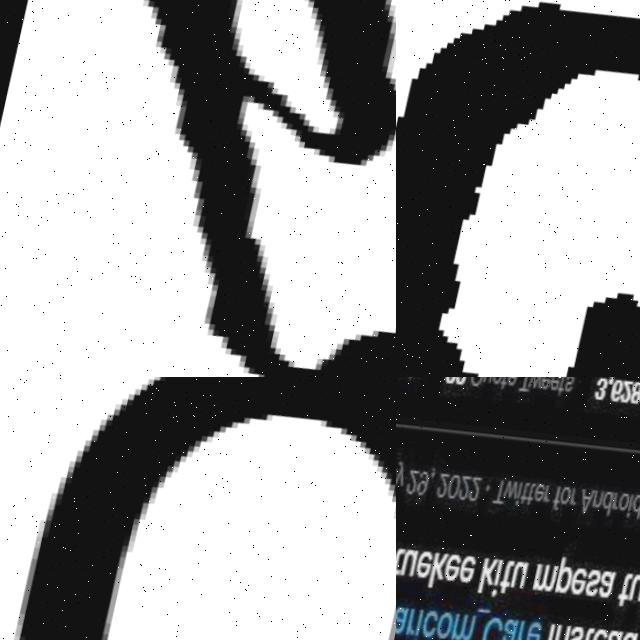2: (609, 384, 625, 410)
4: (627, 386, 640, 412)
5: (415, 470, 432, 502)
H: (144, 0, 396, 377)
O: (15, 377, 396, 640), (396, 3, 640, 377)
